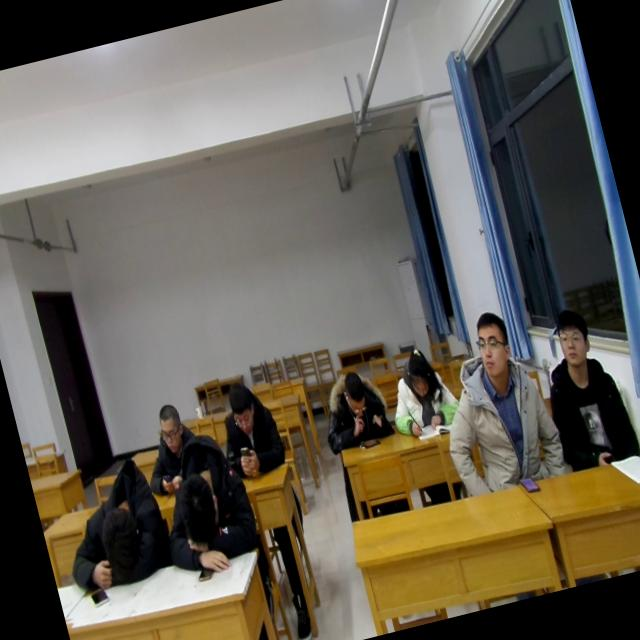bow: (142, 434, 268, 586), (48, 457, 170, 596)
down: (220, 376, 264, 442), (150, 396, 190, 458), (332, 360, 373, 420), (397, 346, 438, 402)
lookup: (466, 301, 520, 384), (546, 298, 598, 373)
sit: (419, 301, 572, 496), (528, 296, 639, 468), (208, 368, 290, 484), (380, 342, 464, 438), (311, 362, 394, 452), (133, 394, 210, 490)
